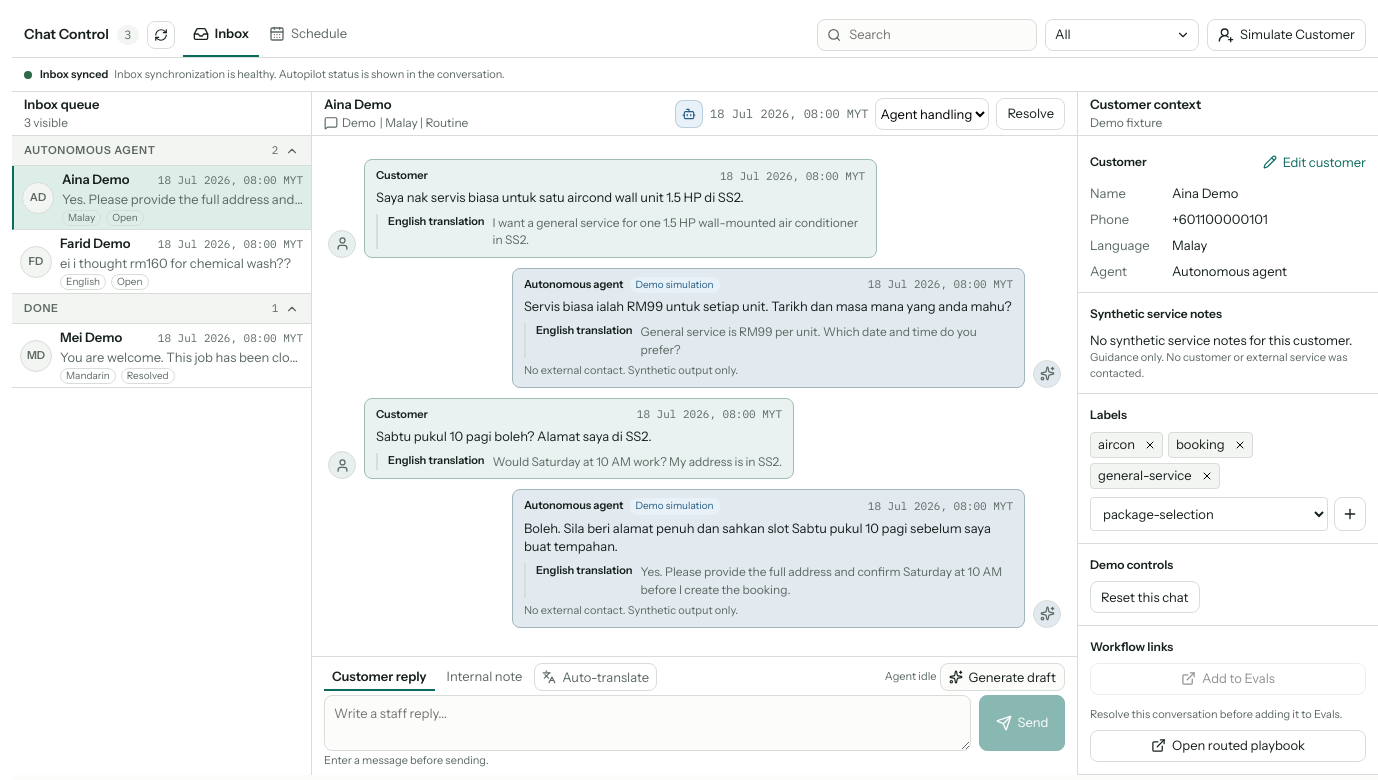
Chat Control route › keeps manual composer text when agent generation fails
In the text box named "Message": (648, 723) [324,695,971,751], type "Keep this manual draft."
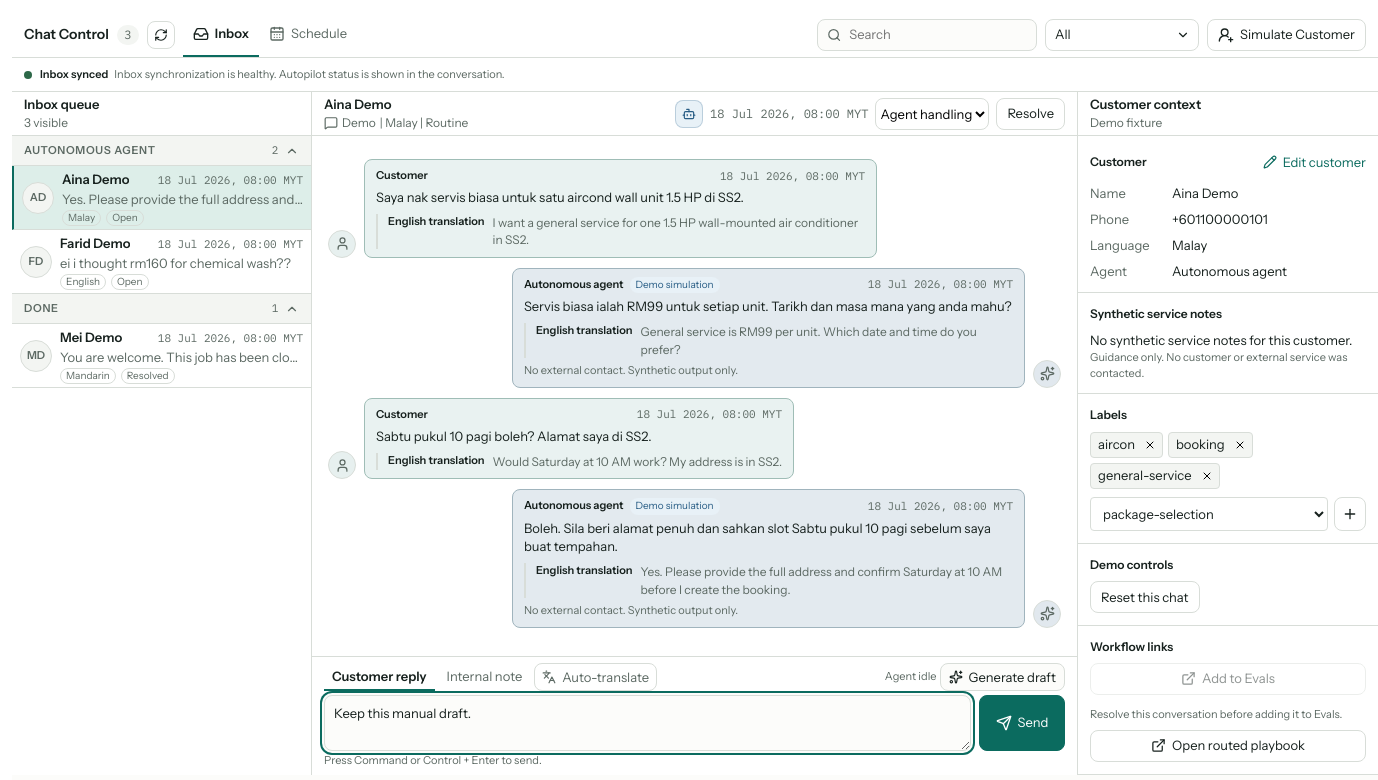
Click the button "Generate draft": (1003, 677) [940,663,1065,691]
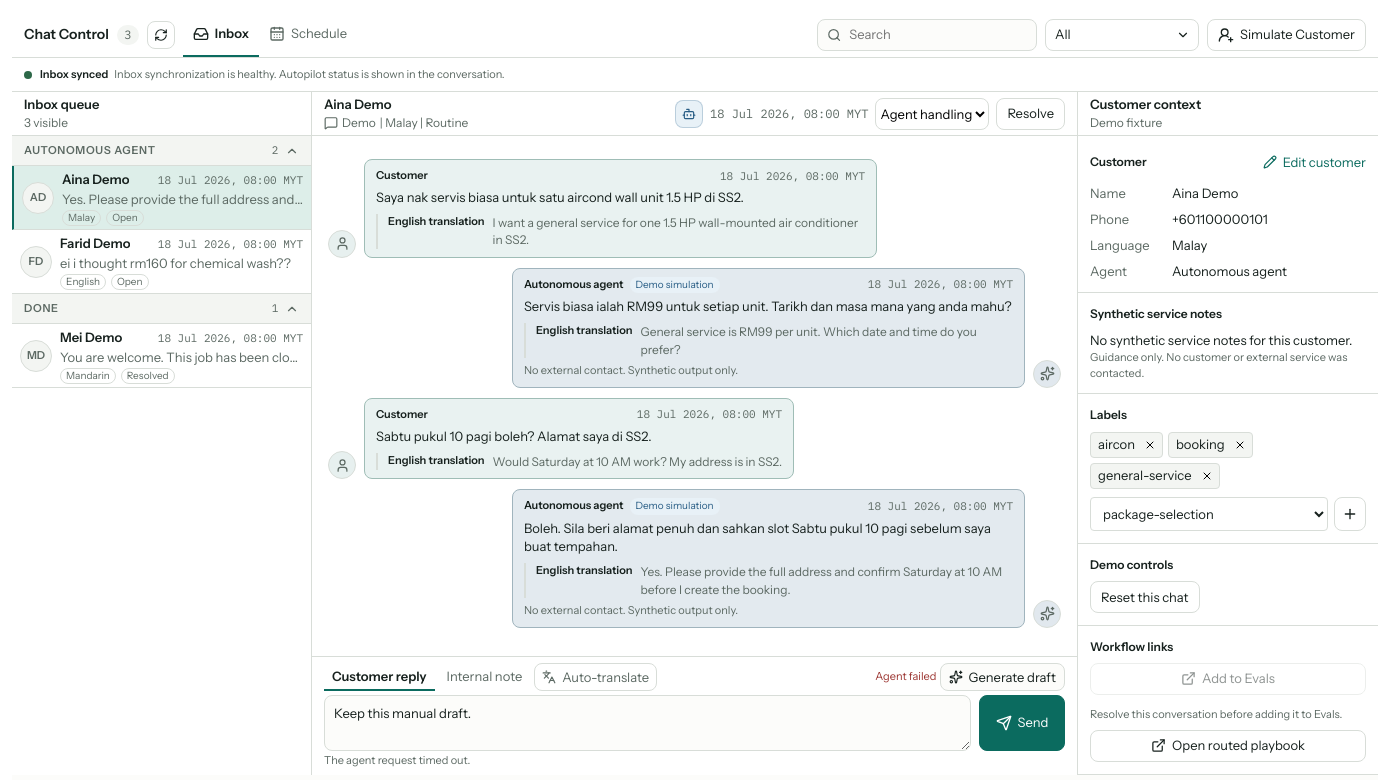
Result: the text "Agent failed" is shown at [875,669,936,685]
